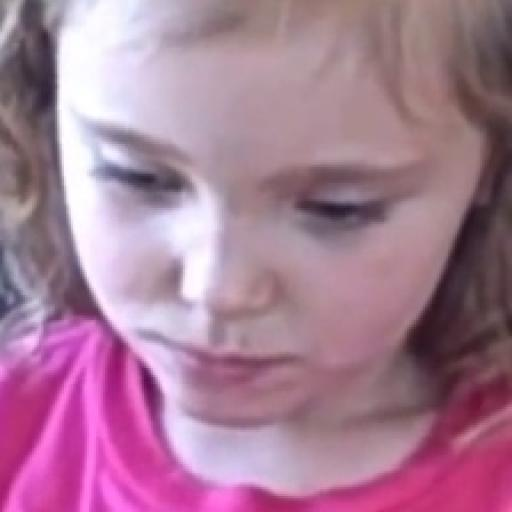Autism: (9, 16, 512, 441)
